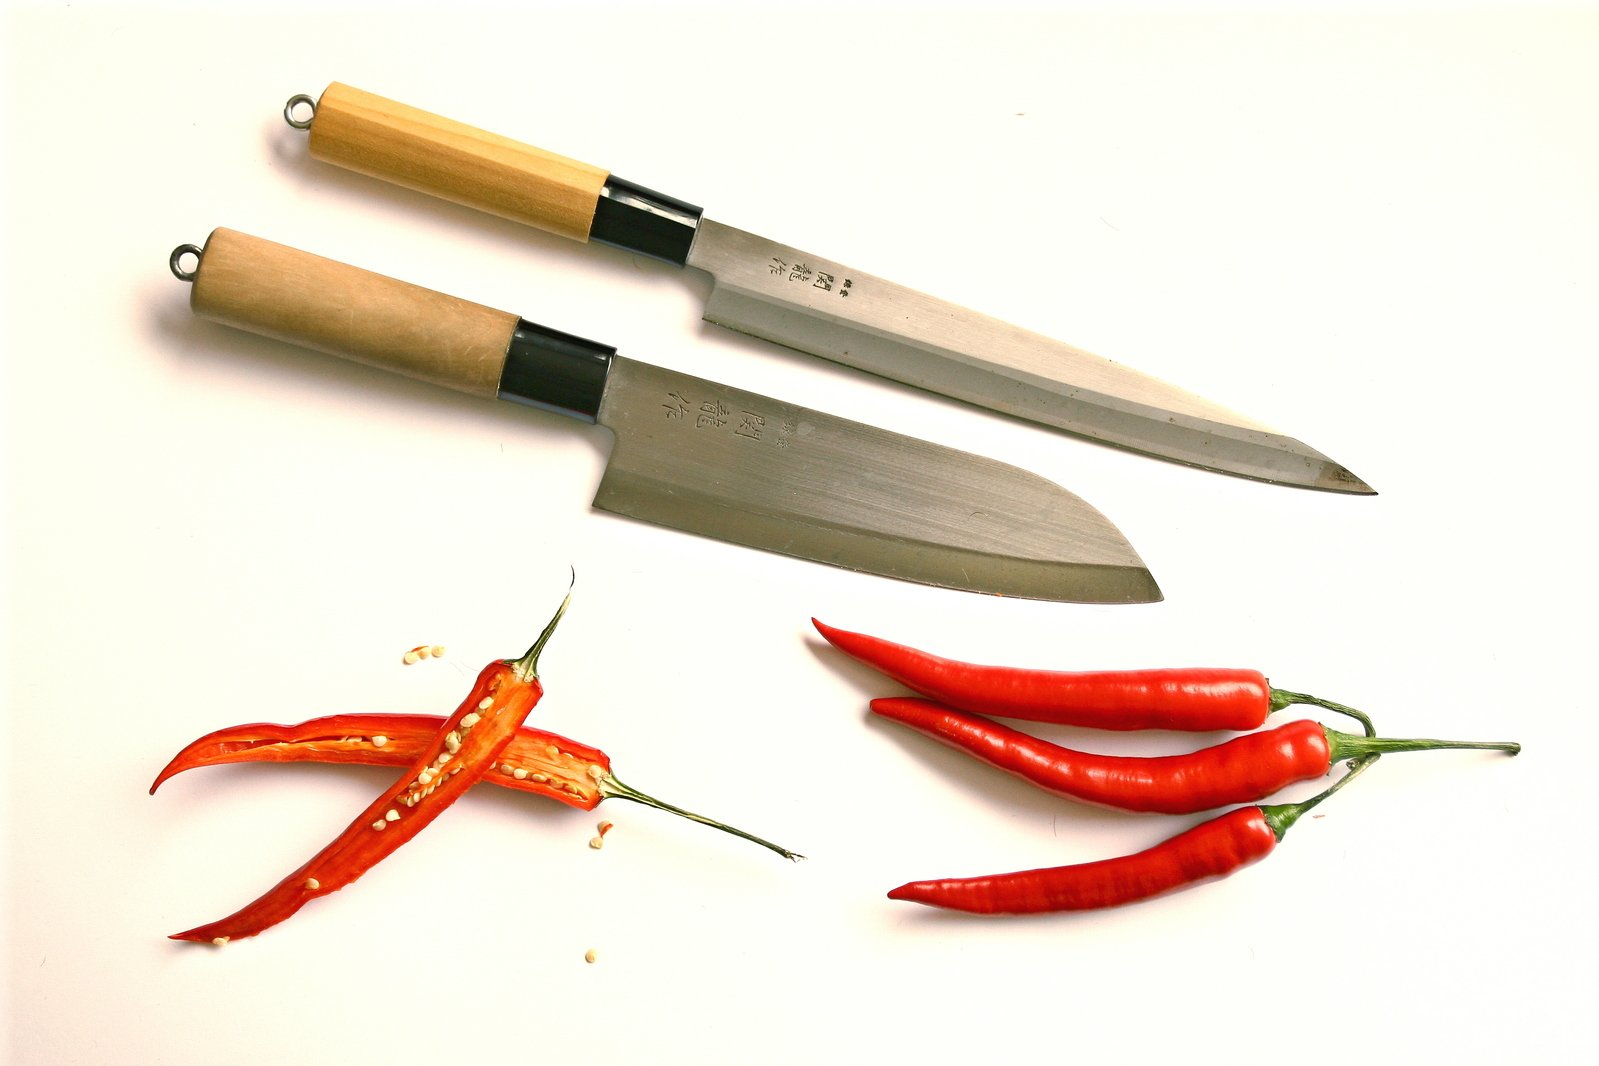knife: (303, 83, 1379, 506), (184, 221, 1165, 603)
